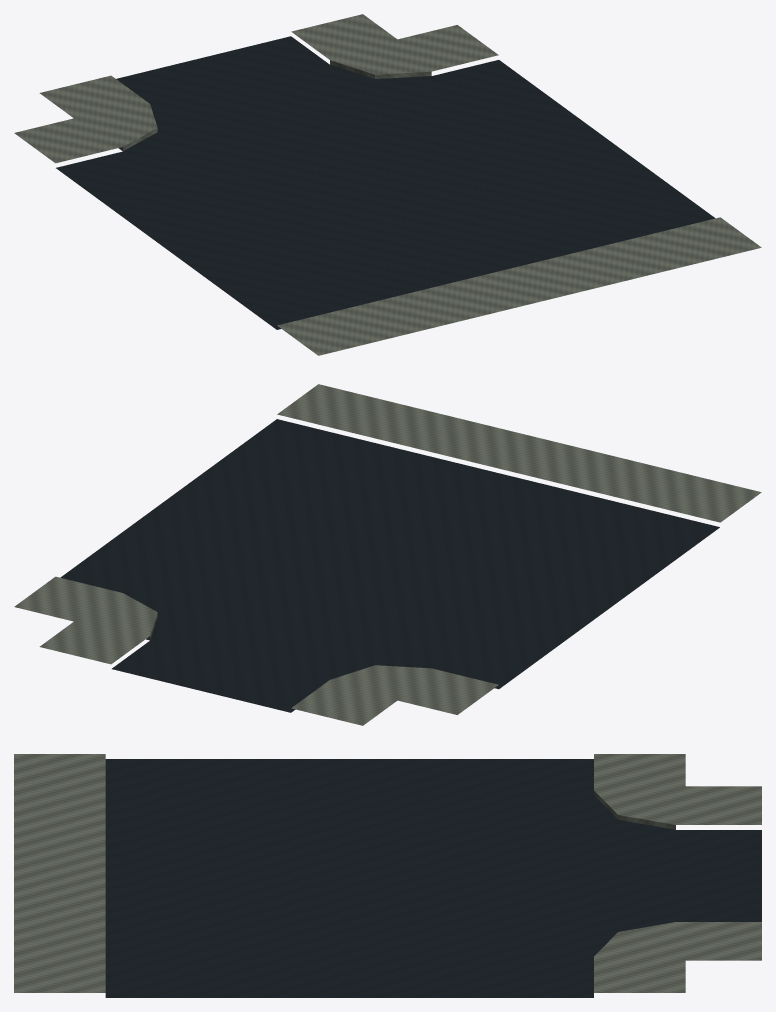
File: junc_tee_4x2_ShadowProxy.glb
The picture shows the model from 3 angles, top to bottom: view 1: azimuth 30°, elevation 25°; view 2: azimuth 150°, elevation 25°; view 3: azimuth 270°, elevation 25°; orthographic projection. The views are drawn at different scales.
Visible parts, largest first — view 1: junc_tee_4x2__surface.003, junc_tee_4x2__rounded_corner_curb.003; view 2: junc_tee_4x2__surface.003, junc_tee_4x2__rounded_corner_curb.003; view 3: junc_tee_4x2__surface.003, junc_tee_4x2__rounded_corner_curb.003.
Part boxes in pixels (left/top/right/bottom): junc_tee_4x2__surface.003: left=56, top=36, right=715, bottom=329; junc_tee_4x2__rounded_corner_curb.003: left=14, top=14, right=761, bottom=355; junc_tee_4x2__surface.003: left=60, top=419, right=719, bottom=712; junc_tee_4x2__rounded_corner_curb.003: left=14, top=384, right=761, bottom=725; junc_tee_4x2__surface.003: left=105, top=759, right=761, bottom=997; junc_tee_4x2__rounded_corner_curb.003: left=14, top=754, right=761, bottom=992.
Bounding box in the file's own units: 14.8 × 0.145 × 19.6.
3 materials, 3 textured.
